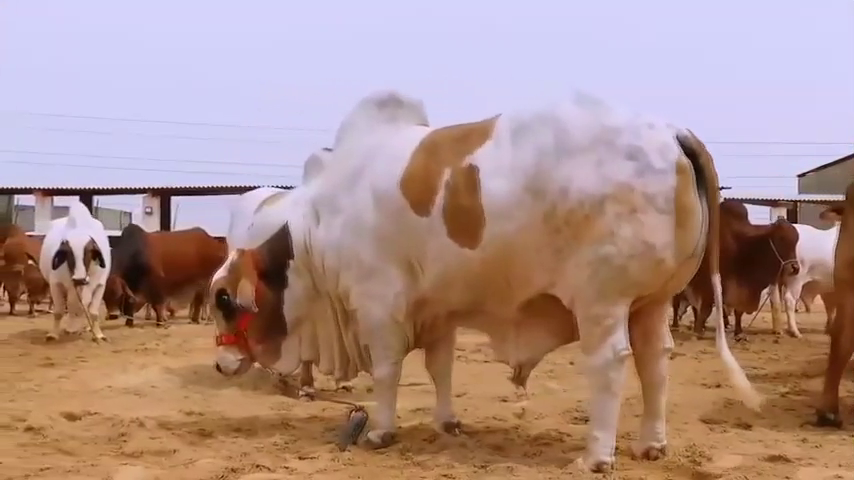bo: (193, 65, 767, 480), (662, 181, 801, 348), (96, 201, 234, 341), (35, 188, 110, 357), (761, 199, 839, 343), (821, 170, 854, 429), (1, 218, 46, 321)
